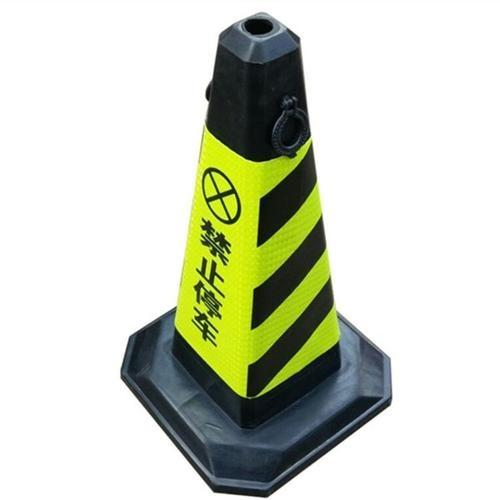cone_barrel: (126, 25, 375, 465)
